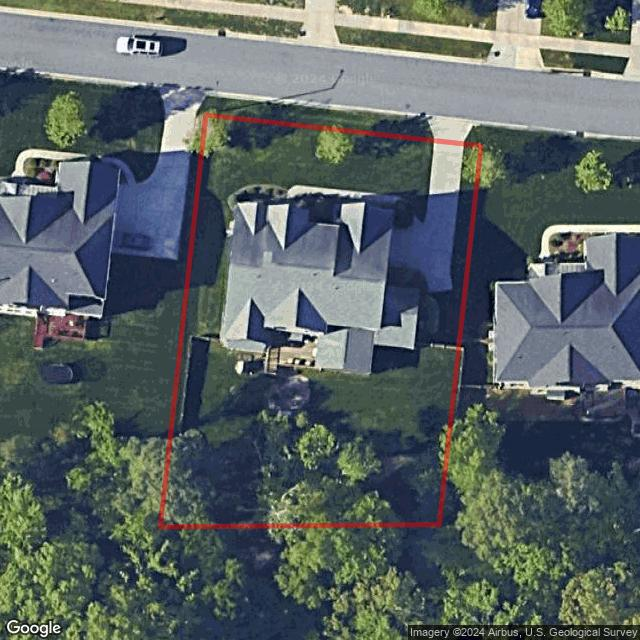Driveway: (390, 141, 467, 293)
Extra-Driveway: (427, 119, 476, 144)
Extra-Lawn: (204, 97, 434, 140), (462, 125, 486, 146)
House: (220, 204, 421, 375)
Lawn: (161, 114, 480, 527)
Other: (236, 332, 317, 412), (227, 186, 285, 213), (387, 264, 427, 292)
Sidewalk: (285, 185, 423, 230)
